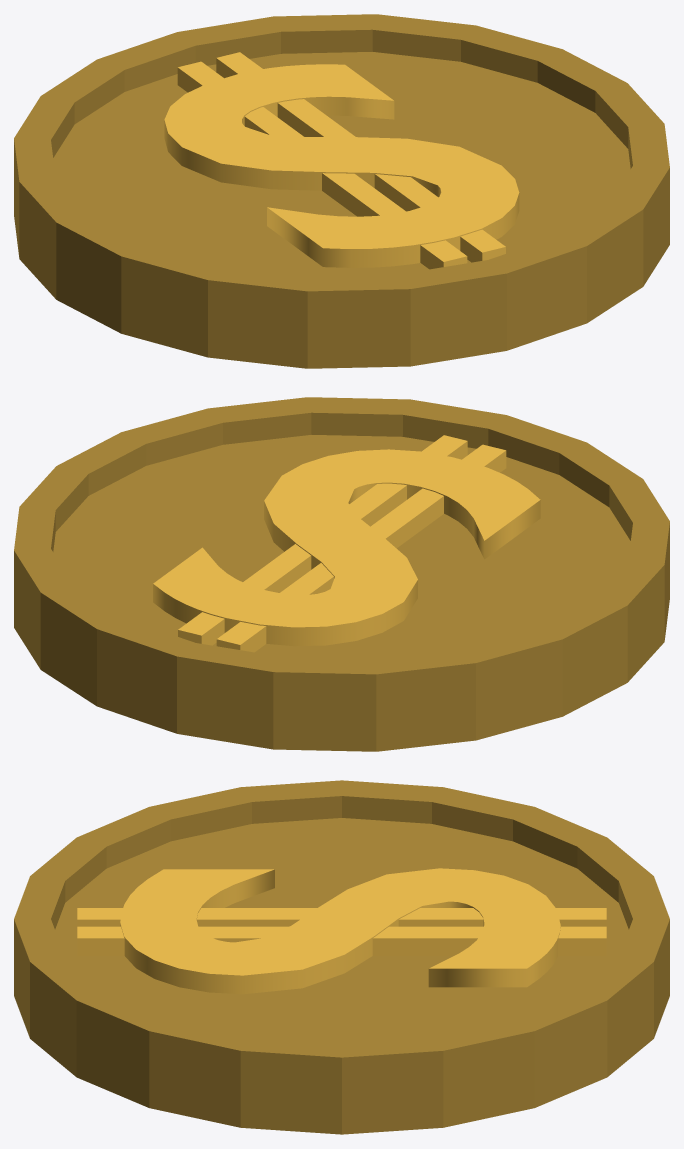
Rendered from Coin.fbx.
3 views of the same model, one above another, from view 1: azimuth 30°, elevation 25°; view 2: azimuth 150°, elevation 25°; view 3: azimuth 270°, elevation 25° (orthographic).
Parts seen in each view (by area): view 1: Coin; view 2: Coin; view 3: Coin.
Boxes of the visible parts, x1=… form: Coin: x1=14, y1=14, x2=669, y2=368; Coin: x1=14, y1=397, x2=669, y2=751; Coin: x1=14, y1=780, x2=669, y2=1134.
Bounding box in the file's own units: 200 × 25.9 × 200.
